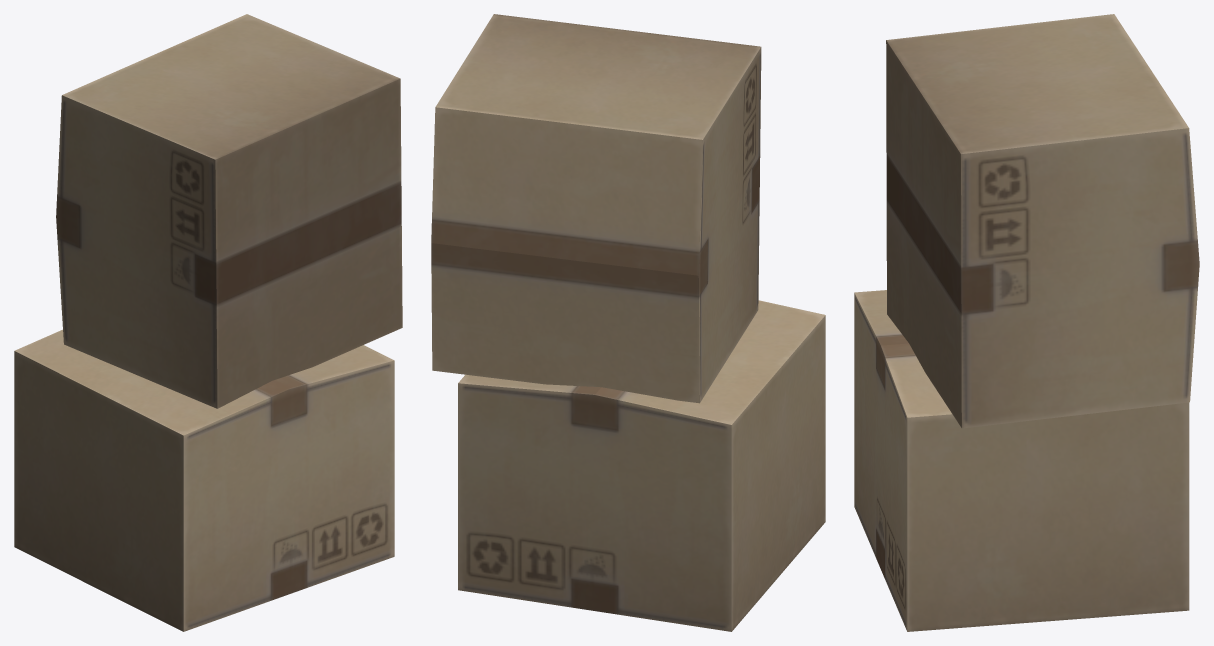
Rendered from WarehouseManager_08.obj.
3 views of the same model, side by side, from view 1: azimuth 30°, elevation 25°; view 2: azimuth 150°, elevation 25°; view 3: azimuth 270°, elevation 25° (orthographic). The views are drawn at different scales.
Bounding box in the file's own units: 0.9138 × 1.28 × 0.8123.
Materials: 2 (2 with a texture image).
